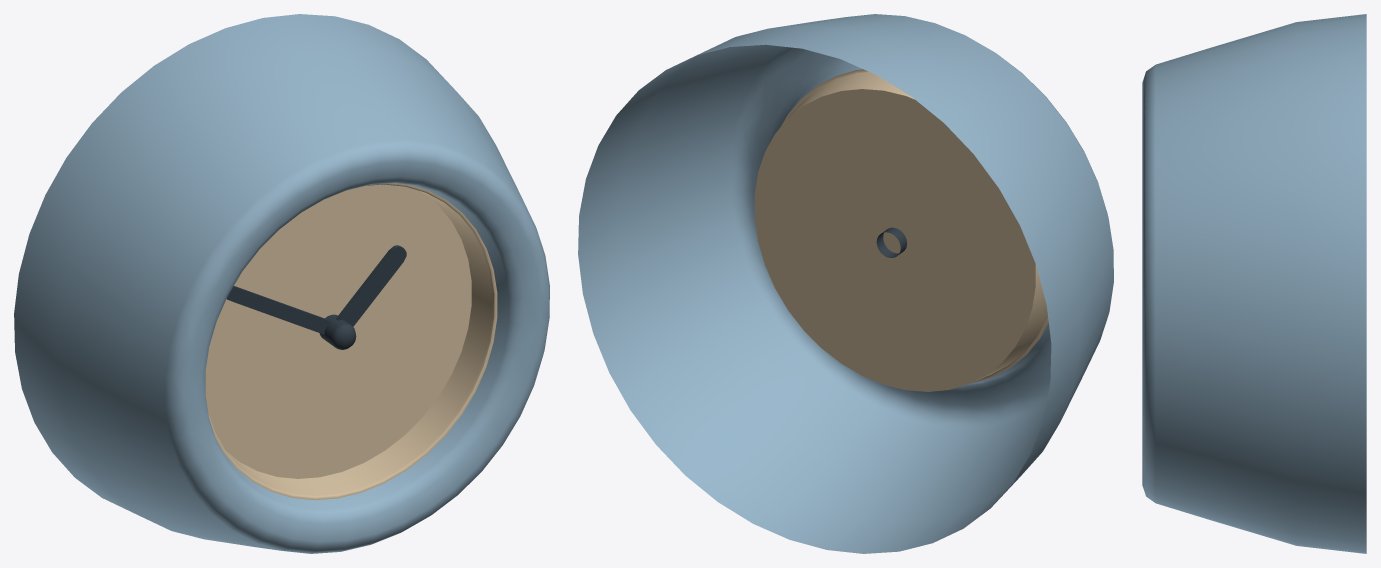
Rendered from SM_Clock.fbx.
3 renders of one model, left to right at view 1: azimuth 30°, elevation 25°; view 2: azimuth 150°, elevation 25°; view 3: azimuth 270°, elevation 25°, orthographic.
Parts seen in each view (by area): view 1: SM_Clock, SM_ClockHandH, SM_ClockHandM, SM_ClockHandCore; view 2: SM_Clock; view 3: SM_Clock.
Boxes of the visible parts, x1,y1,x2,y2 form: SM_Clock: (14, 14, 549, 553); SM_ClockHandH: (336, 245, 406, 326); SM_ClockHandM: (226, 286, 330, 334); SM_ClockHandCore: (319, 314, 356, 349); SM_Clock: (578, 14, 1113, 553); SM_Clock: (1142, 14, 1366, 553).
Size of the model in its own units: 73.6 by 73.6 by 30.6.
Materials: 1 (1 with a texture image).
